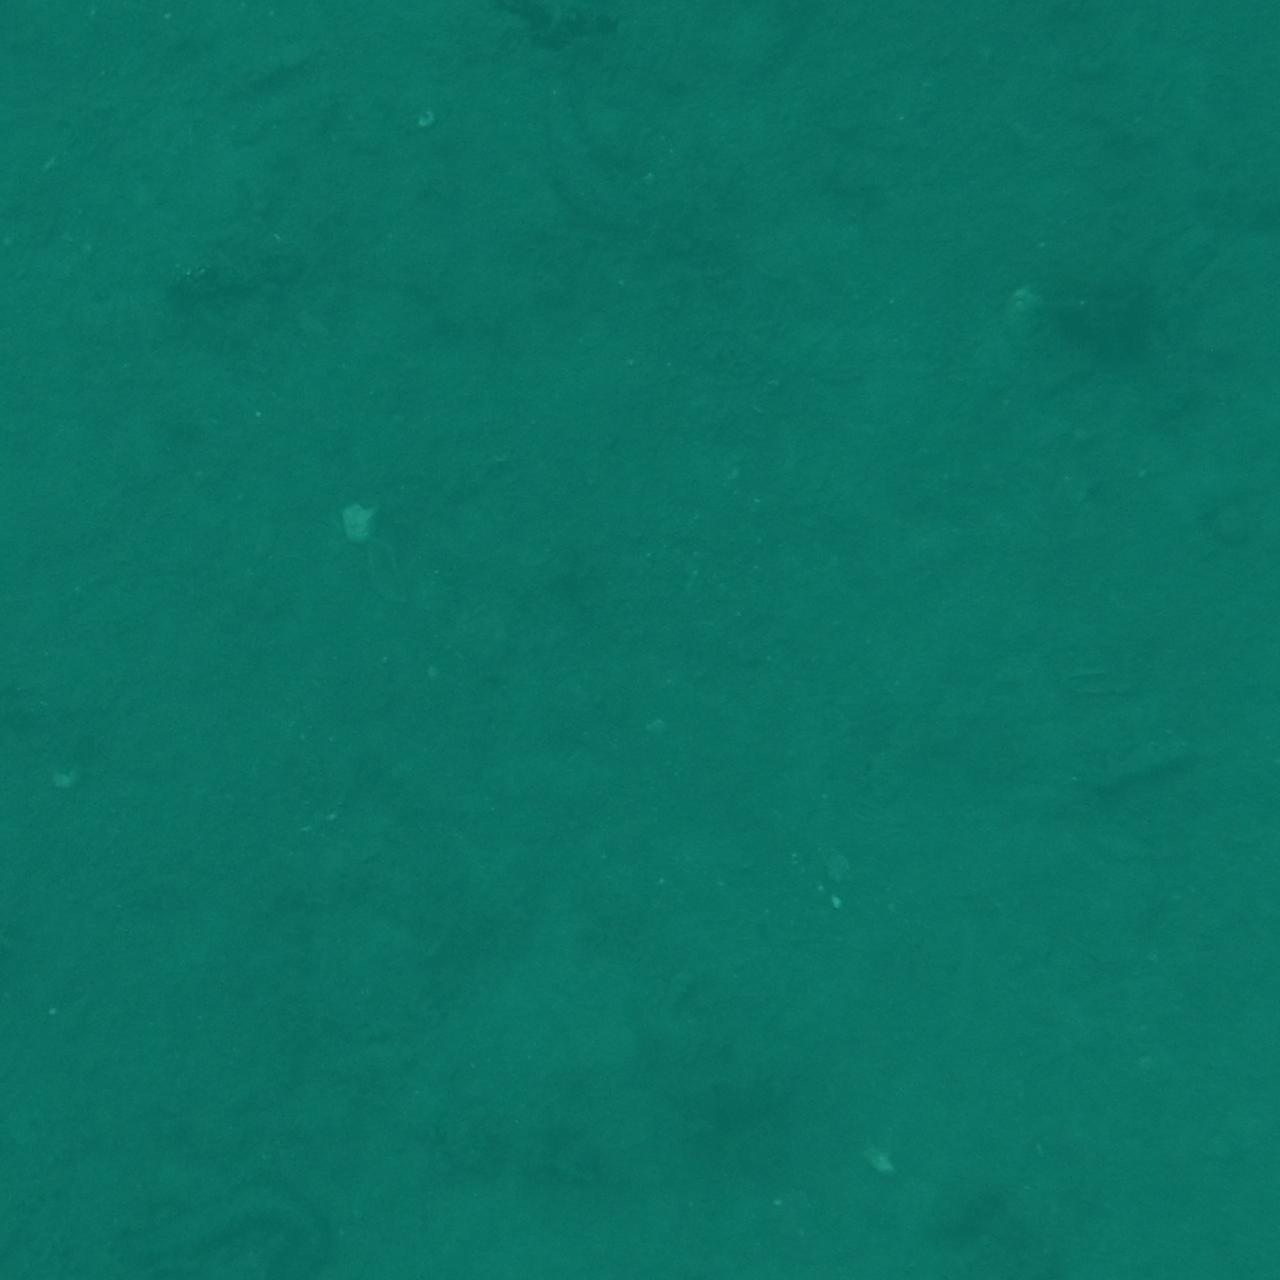Holothuria tubulosa: (520, 57, 686, 248), (121, 1173, 358, 1280), (1119, 742, 1280, 890), (1087, 1009, 1280, 1125), (0, 906, 125, 1078), (539, 1169, 713, 1280), (0, 0, 203, 95), (932, 1210, 1191, 1280), (1177, 68, 1280, 244), (0, 182, 70, 433), (0, 282, 111, 420), (1131, 1179, 1280, 1280), (518, 0, 716, 74), (0, 0, 95, 138), (0, 0, 147, 89), (0, 0, 118, 107), (563, 1169, 670, 1280), (0, 670, 52, 899), (0, 0, 70, 166), (0, 1179, 109, 1280), (1164, 1189, 1280, 1280), (0, 0, 95, 111), (1160, 0, 1280, 83), (0, 1160, 80, 1280), (1219, 1175, 1280, 1280)
Rifiuto: (0, 1164, 139, 1280)
